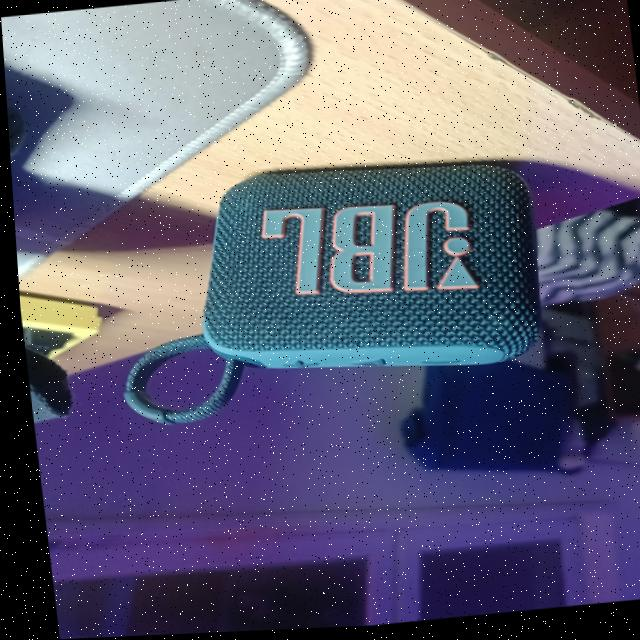column JBL: (90, 150, 552, 433)
